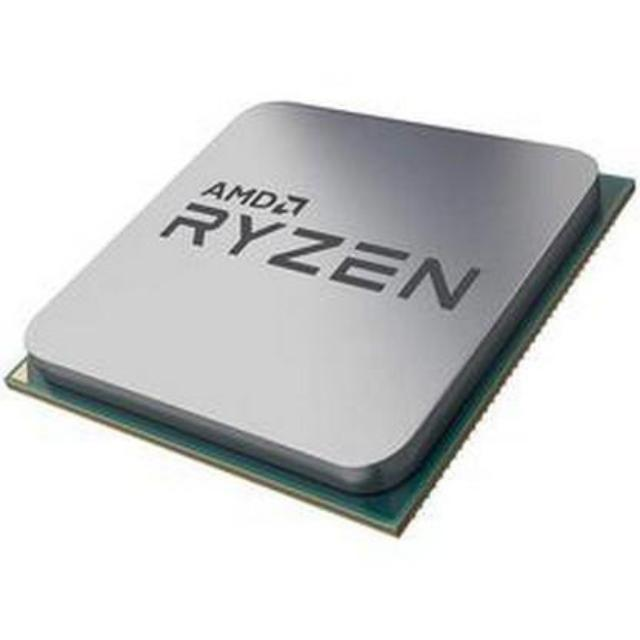CPU: (23, 97, 612, 526)
